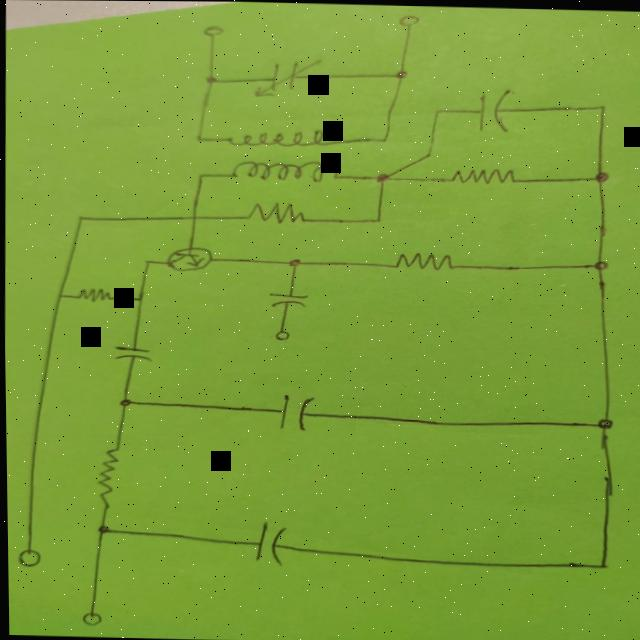capacitor: (252, 58, 320, 96), (475, 87, 509, 130), (253, 519, 284, 564), (275, 393, 309, 428), (113, 342, 150, 361), (266, 290, 307, 307)
junction: (590, 414, 612, 429), (370, 169, 392, 183), (114, 395, 138, 407), (284, 254, 302, 270), (590, 557, 611, 570), (585, 257, 606, 269), (589, 169, 607, 182), (390, 67, 408, 78), (95, 523, 113, 534), (202, 73, 220, 83), (368, 213, 385, 223), (130, 292, 146, 302), (430, 105, 444, 114), (420, 149, 434, 158), (376, 133, 390, 142), (73, 213, 88, 221), (593, 101, 607, 109), (187, 212, 201, 220), (191, 134, 205, 142), (194, 171, 207, 179), (54, 290, 64, 300), (141, 257, 153, 264)
resistor: (240, 199, 306, 221), (94, 446, 118, 506), (385, 248, 453, 269), (445, 165, 516, 182), (71, 284, 114, 302)
terminal: (11, 544, 41, 566), (77, 606, 101, 624), (270, 325, 290, 341), (397, 13, 417, 28), (198, 25, 222, 37)
transformer: (224, 126, 341, 180)
transistor: (163, 244, 211, 271)
